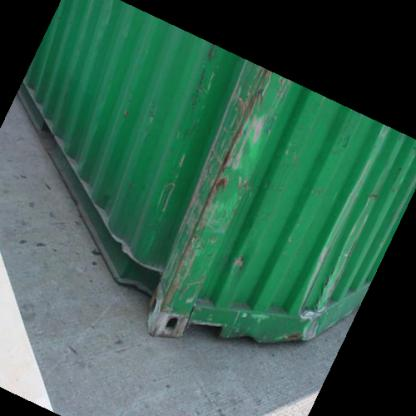Damage: (176, 86, 264, 324)
